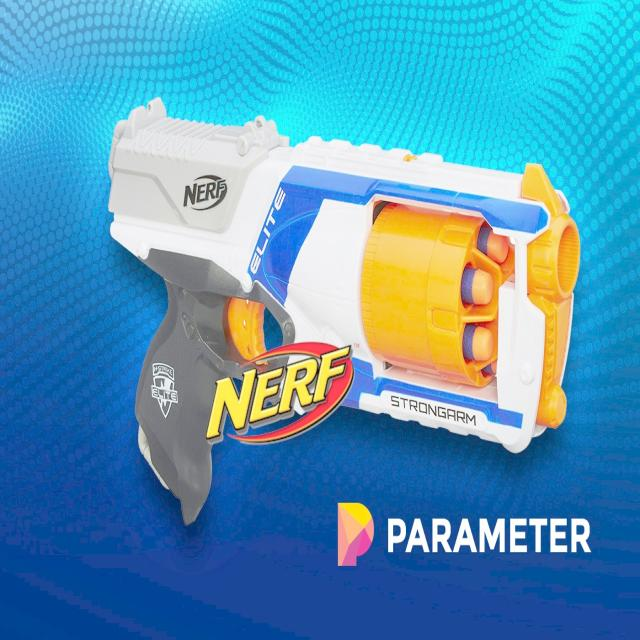Nerf gun: (92, 88, 580, 544)
